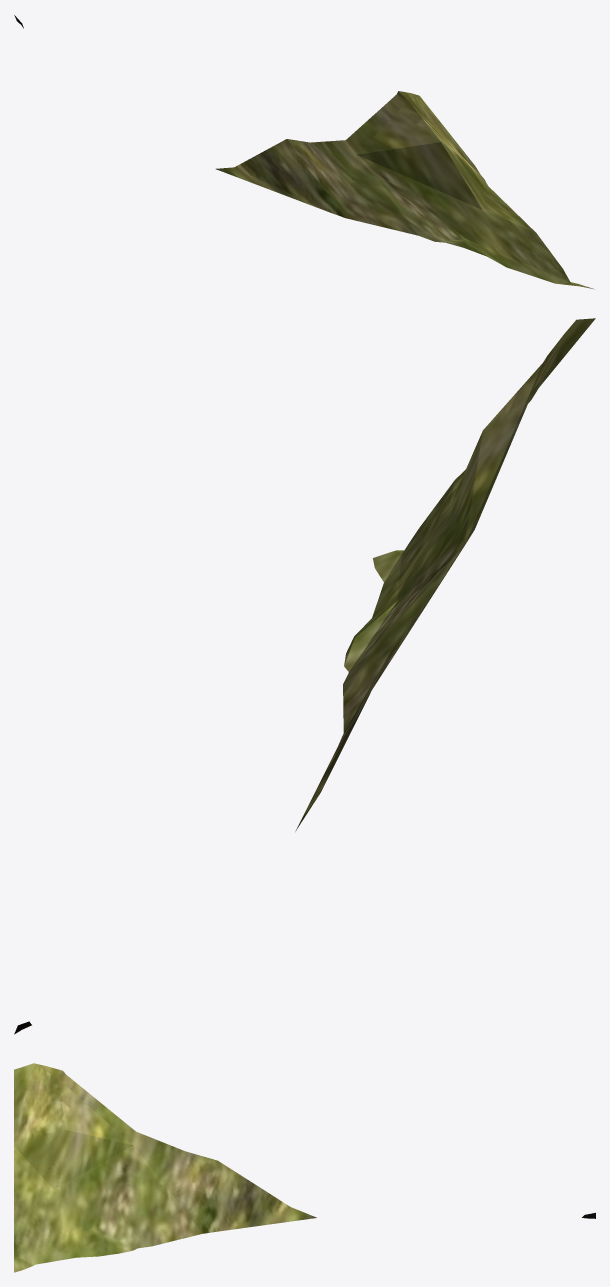
The picture shows the model from 3 angles, top to bottom: view 1: azimuth 30°, elevation 25°; view 2: azimuth 150°, elevation 25°; view 3: azimuth 270°, elevation 25°; orthographic projection. The views are drawn at different scales.
Bounding box in the file's own units: 0.6576 × 0.8647 × 2.95.
Materials: 1 (1 with a texture image).
